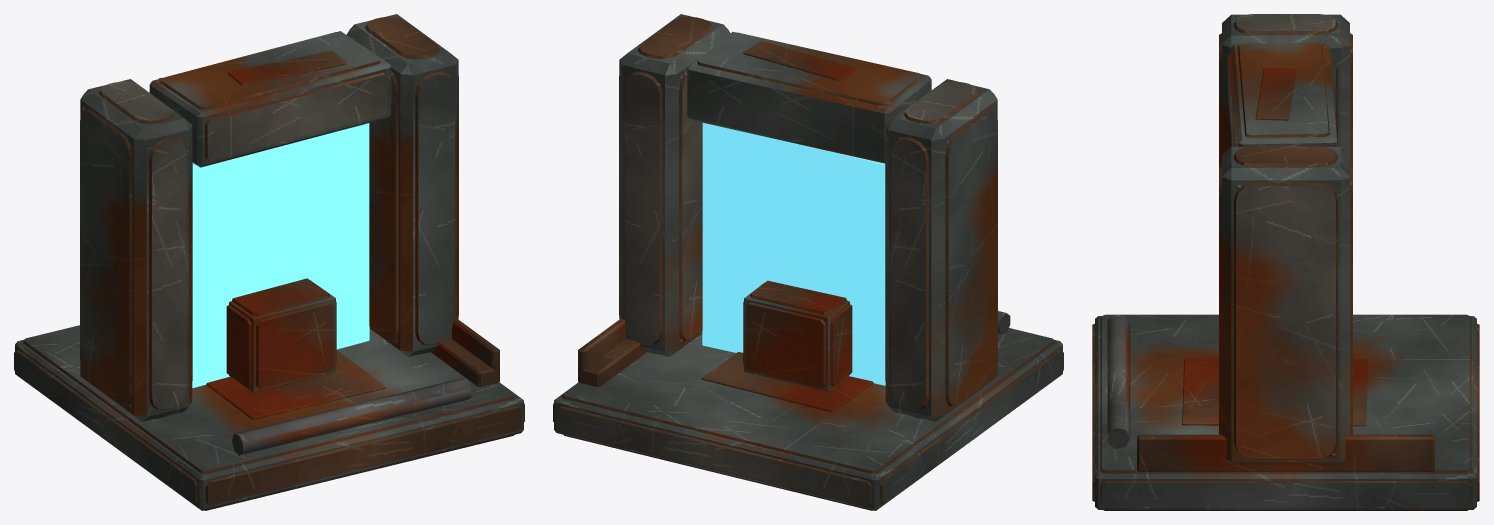
File: R4X_StructuralScanner.glb
3 views of the same model, side by side, from view 1: azimuth 30°, elevation 25°; view 2: azimuth 150°, elevation 25°; view 3: azimuth 270°, elevation 25° (orthographic).
Parts seen in each view (by area): view 1: R4X_StructuralScanner_Body; view 2: R4X_StructuralScanner_Body; view 3: R4X_StructuralScanner_Body.
Boxes of the visible parts, x1,y1,x2,y2 form: R4X_StructuralScanner_Body: (14,14,524,510); R4X_StructuralScanner_Body: (553,14,1063,510); R4X_StructuralScanner_Body: (1092,14,1479,510).
Bounding box in the file's own units: 0.52 × 0.513 × 0.52.
Materials: 5 (4 with a texture image).
